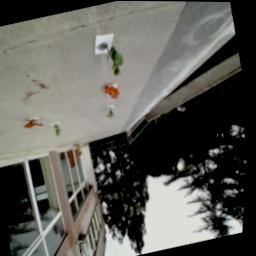herb: (104, 44, 131, 79), (106, 108, 120, 121), (55, 124, 65, 138)
wild: (103, 82, 125, 103), (24, 118, 48, 132)
